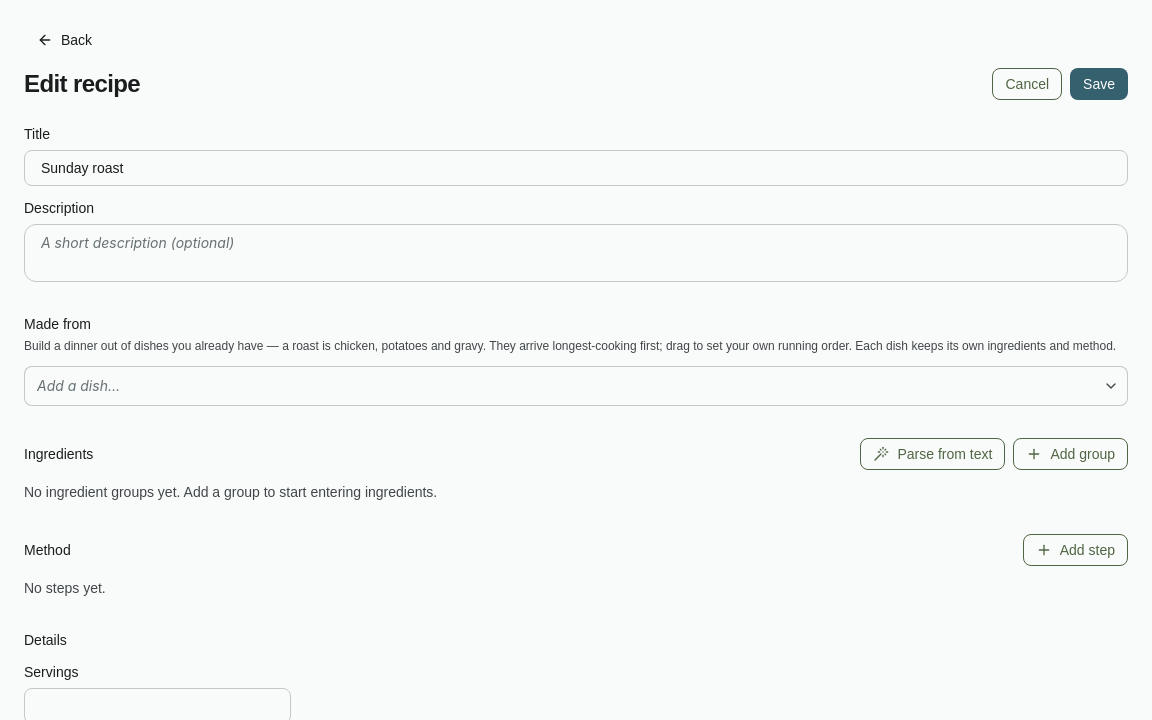
Test: RecipeEditPage — building a meal out of recipes › offers only dishes you make — never itself, an outing or a placeholder
Expected: the element with test id "recipe-components-editor" is shown, [24,314,1128,406]
Click the dropdown with test id "recipe-component-picker".
click(560, 386)  # box [24,366,1095,406]
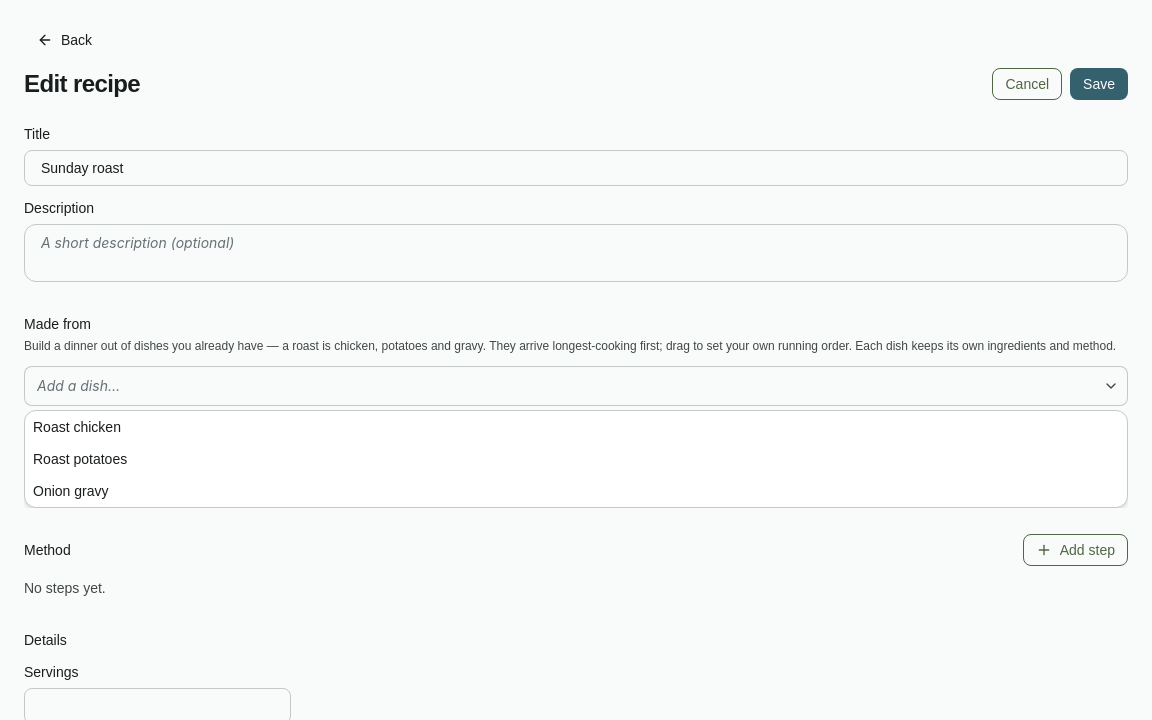
Expected: the options read "Roast chicken", "Roast potatoes", "Onion gravy", in this order, [33,419,121,435]; [33,451,127,467]; [33,483,108,499]
